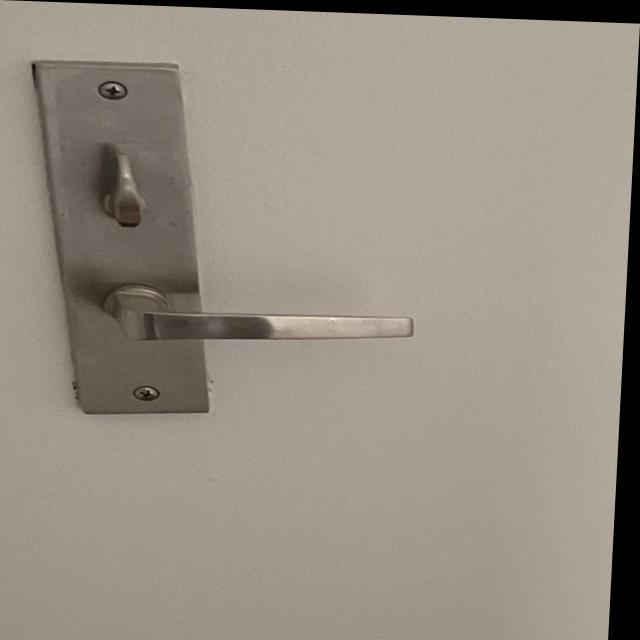door_handle: (81, 269, 435, 365)
